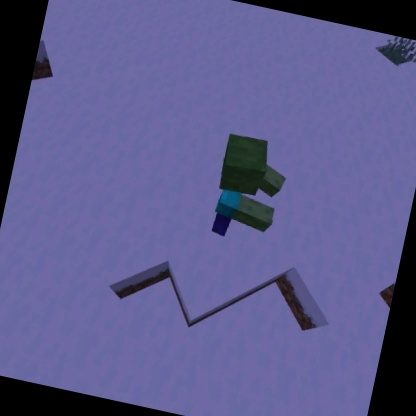zombie: (203, 128, 296, 250)
